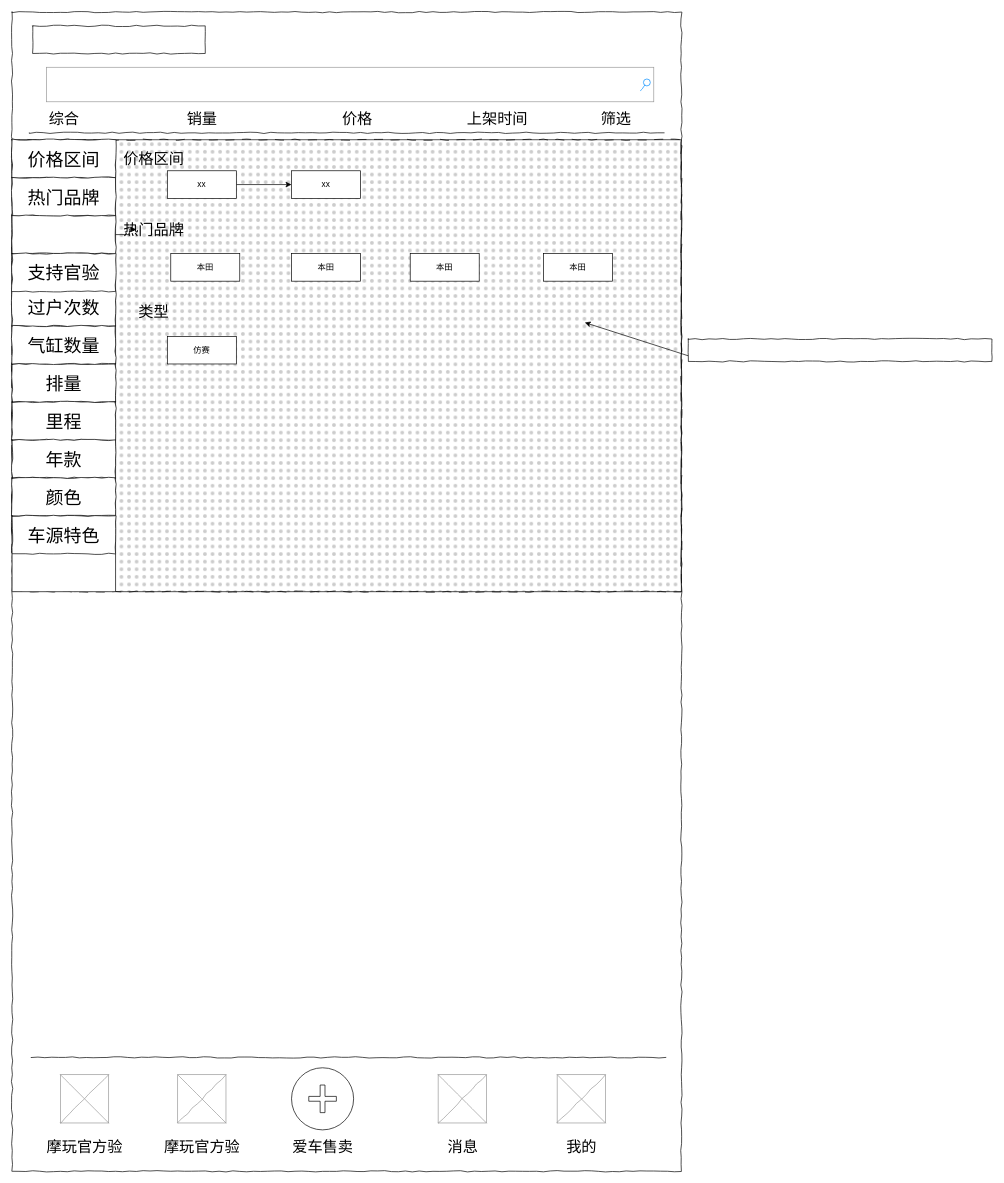
The diagram is 1004 pixels wide and 1183 high, and some of its shapes have lost their labels. The shapes that lost their labels are listed below. From the top down, each one's box as (x1, y1, x2, y2) in pixels, then its label:
(32, 25, 205, 53): LOGO：全新出发
(46, 67, 654, 102): 用户输入搜索内容
(11, 215, 116, 254): 机车类型
(688, 338, 992, 361): 每个选项最多五个
